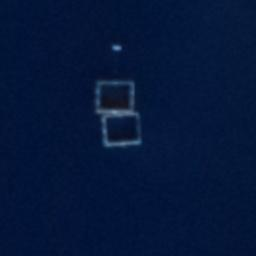square_solid: (99, 109, 147, 153), (91, 77, 139, 117)
